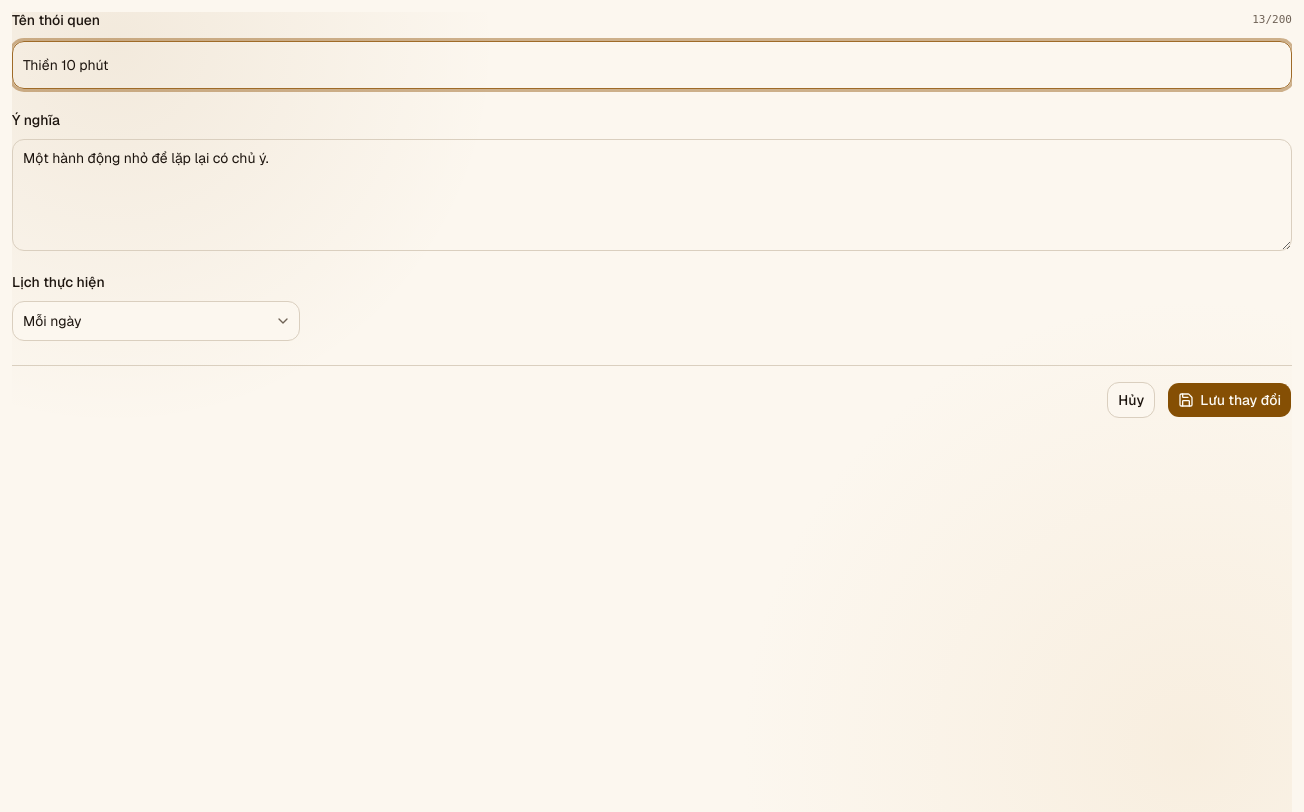
Test case: HabitEditor › loads the latest revision without relying on router refresh
What coordinates should you click on to do the following:
click the button "Lưu thay đổi"
I would click on:
 (1230, 400)
Its box is [1167, 382, 1292, 418].
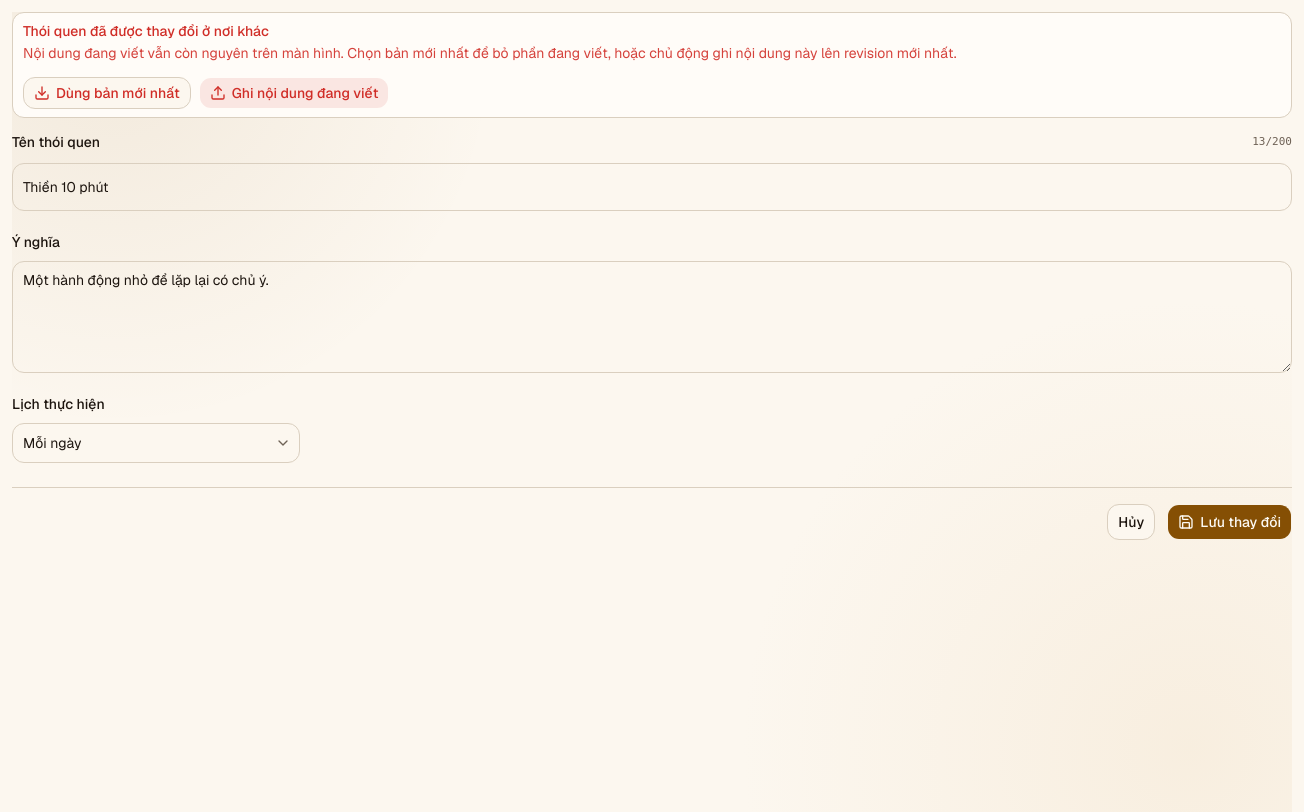
expect the heading "Thói quen đã được thay đổi ở nơi khác" is shown: met, box [23, 22, 269, 40]
expect the button "Dùng bản mới nhất" is enabled: met
What coordinates should you click on to do the following:
click the button "Dùng bản mới nhất"
I would click on:
 (107, 93)
Its box is [23, 77, 191, 109].
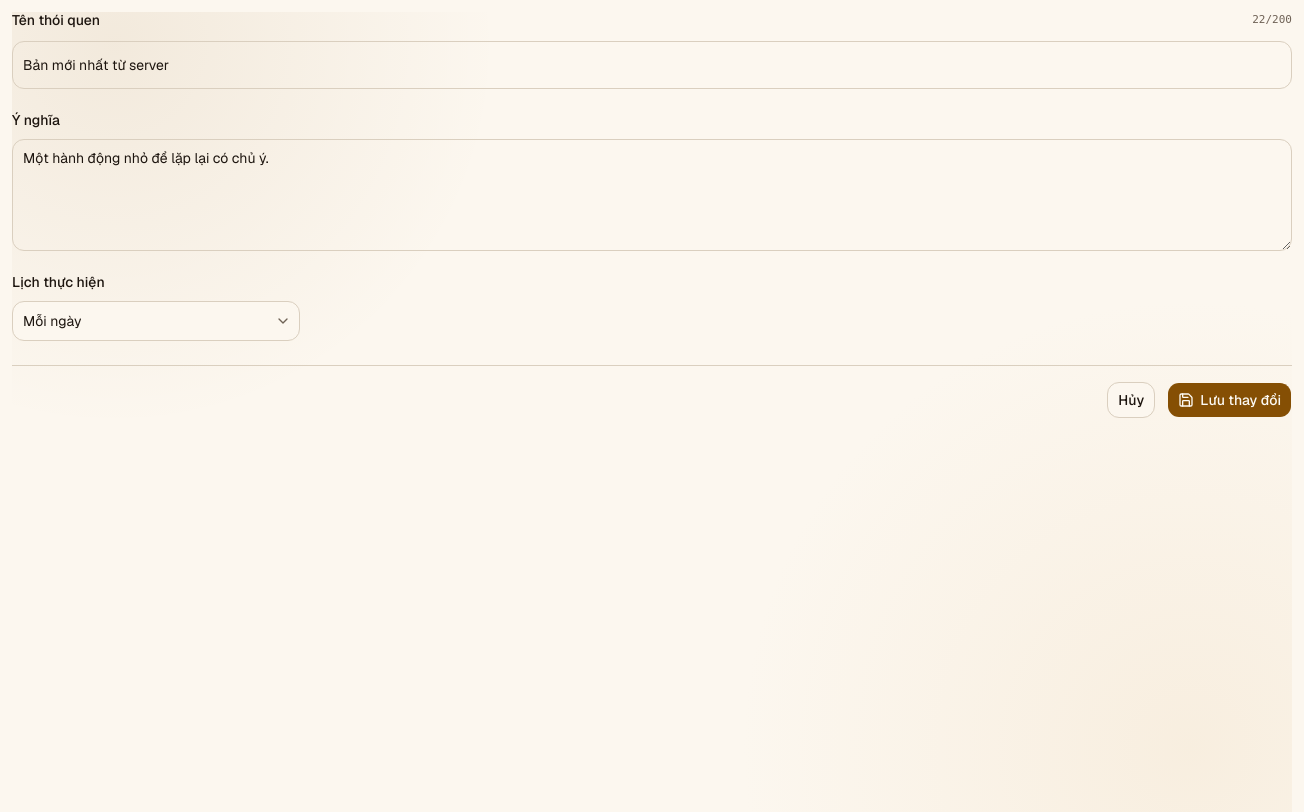
expect the field labelled "Tên thói quen" holds "Bản mới nhất từ server": met, box [12, 40, 1292, 88]
